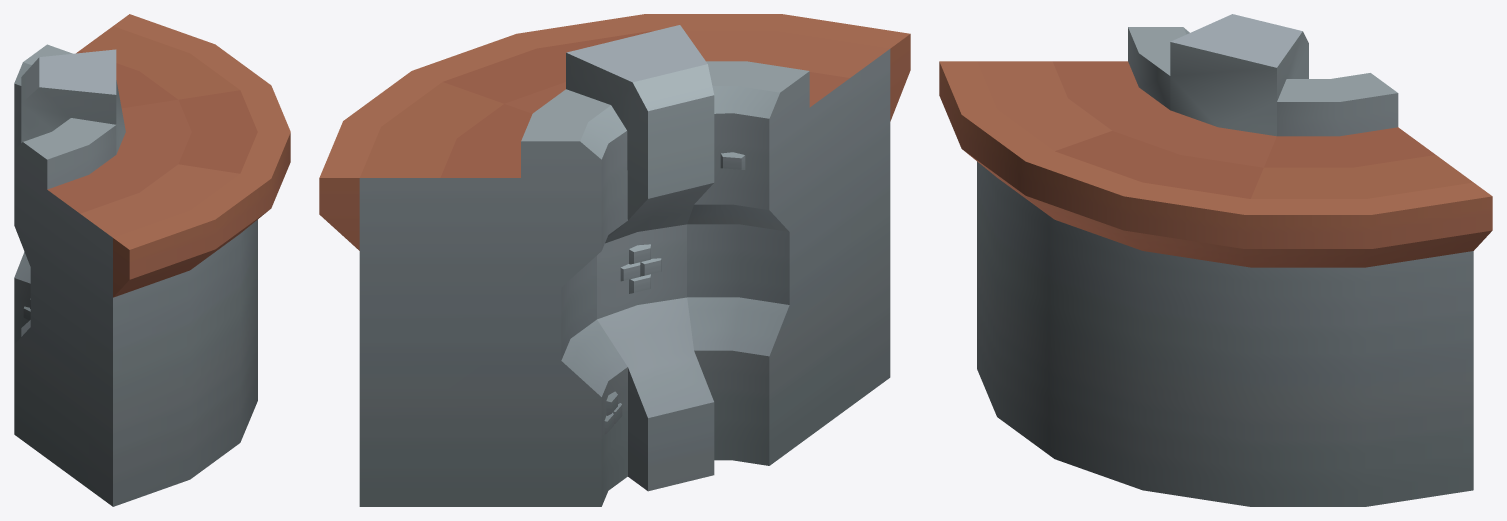
The model's file is wall_corner_b_inside.glb.
The picture shows the model from 3 angles, left to right: view 1: azimuth 30°, elevation 25°; view 2: azimuth 150°, elevation 25°; view 3: azimuth 270°, elevation 25°; orthographic projection. The views are drawn at different scales.
Parts seen in each view (by area): view 1: wall_corner_B_inside; view 2: wall_corner_B_inside; view 3: wall_corner_B_inside.
Part boxes in pixels (x1=…): wall_corner_B_inside: x1=14, y1=14, x2=290, y2=506; wall_corner_B_inside: x1=319, y1=14, x2=910, y2=506; wall_corner_B_inside: x1=939, y1=14, x2=1492, y2=506.
Size of the model in its own units: 0.9626 by 1.1 by 1.47.
1 material, 1 textured.
